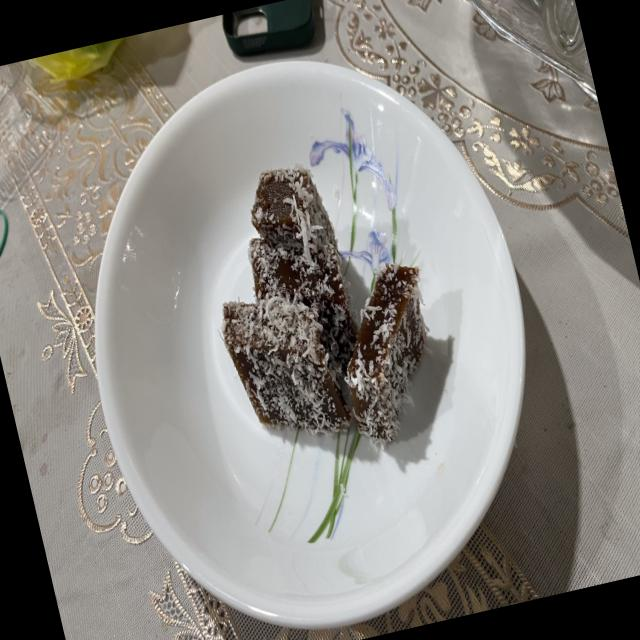kaswi: (248, 237, 357, 405), (221, 295, 350, 434), (346, 262, 427, 441), (251, 165, 337, 267)
